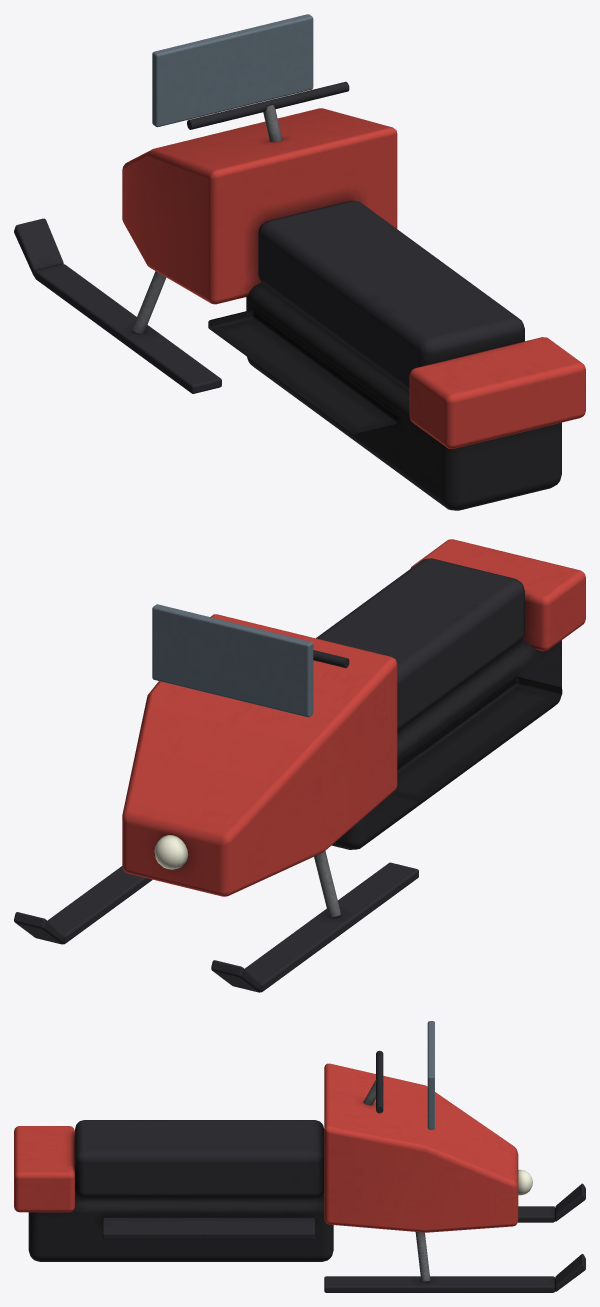
The model's file is snescooter.glb.
The picture shows the model from 3 angles, top to bottom: view 1: azimuth 30°, elevation 25°; view 2: azimuth 150°, elevation 25°; view 3: azimuth 270°, elevation 25°; orthographic projection. The views are drawn at different scales.
Visible parts, largest first — view 1: snescooter; view 2: snescooter; view 3: snescooter.
Part boxes in pixels (left/top/right/bottom): snescooter: left=14, top=14, right=585, bottom=510; snescooter: left=14, top=539, right=585, bottom=992; snescooter: left=14, top=1021, right=585, bottom=1292.
Bounding box in the file's own units: 1.04 × 1.22 × 3.1.
1 material, 1 textured.
